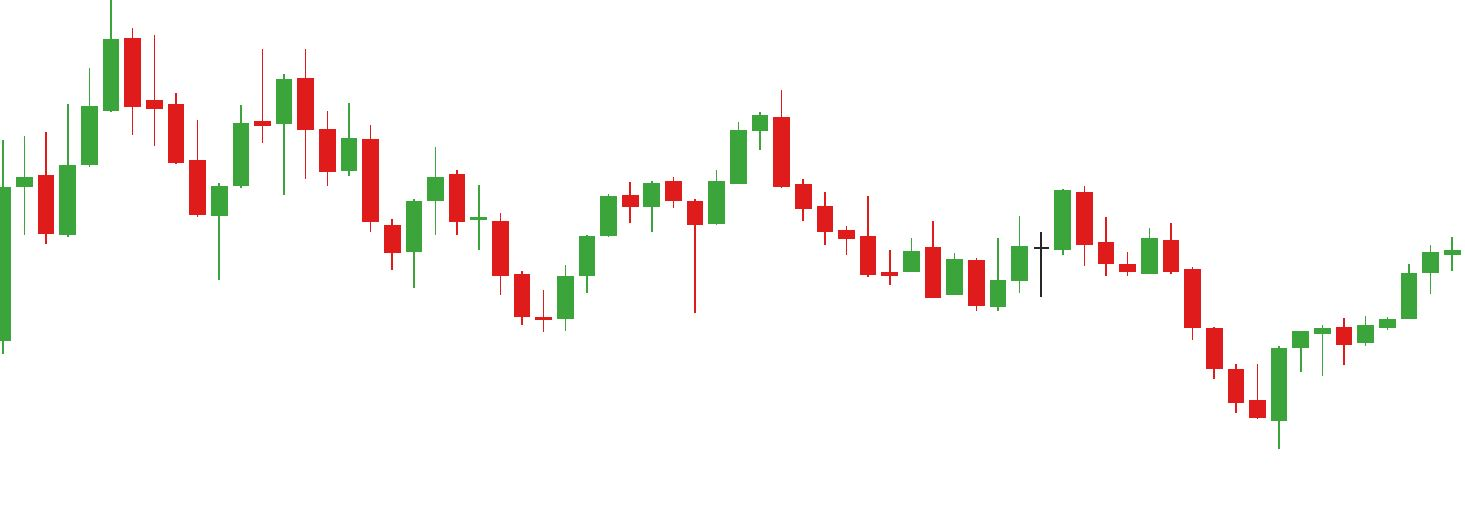buy: (30, 65, 228, 291), (402, 185, 578, 337)
